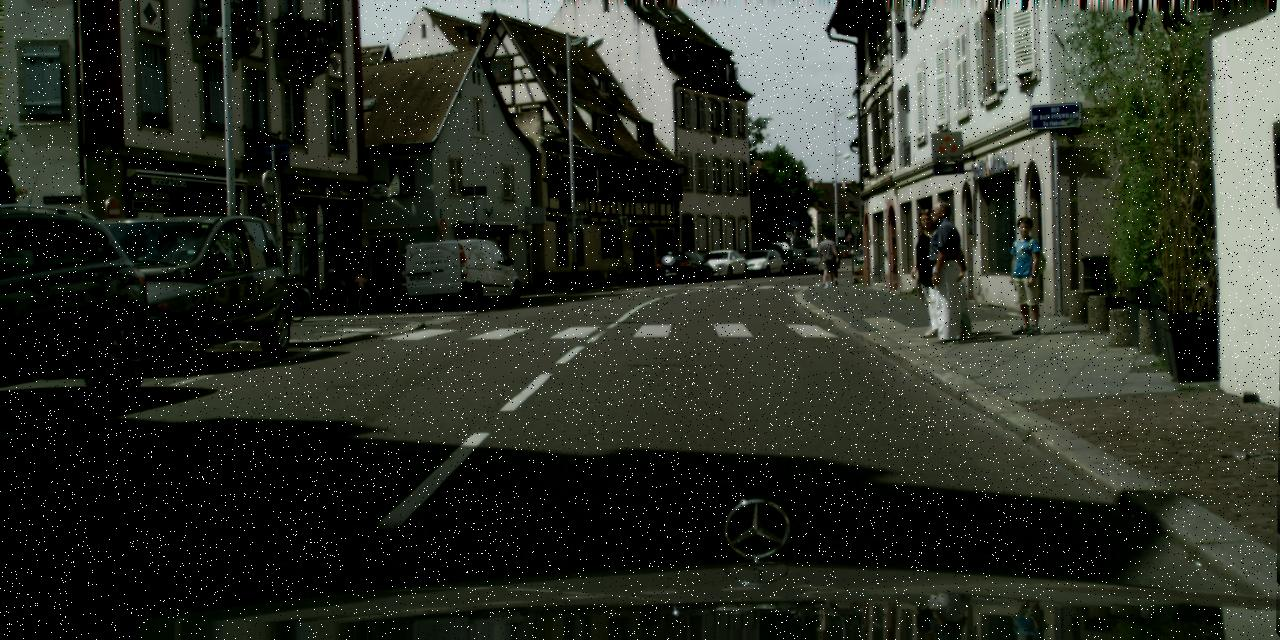ped: (914, 200, 974, 344), (904, 208, 957, 338), (1000, 215, 1049, 334), (936, 238, 977, 338), (816, 233, 838, 288), (827, 246, 842, 284), (817, 254, 829, 286)
